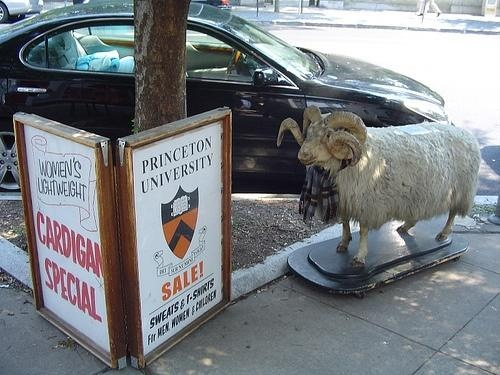car: (1, 2, 451, 193)
sheep: (277, 106, 483, 267)
